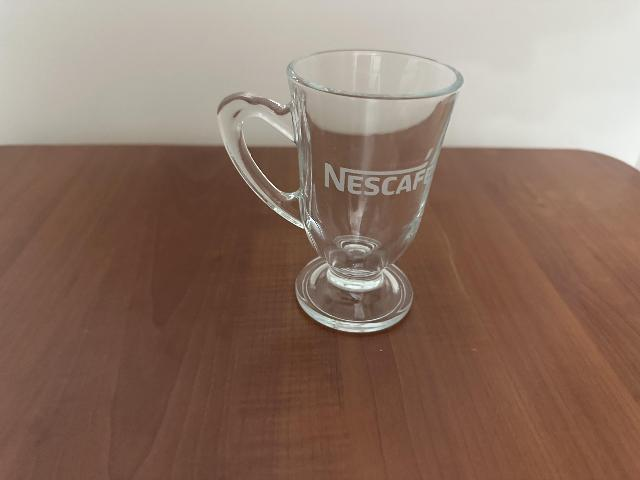Cam: (213, 43, 462, 330)
